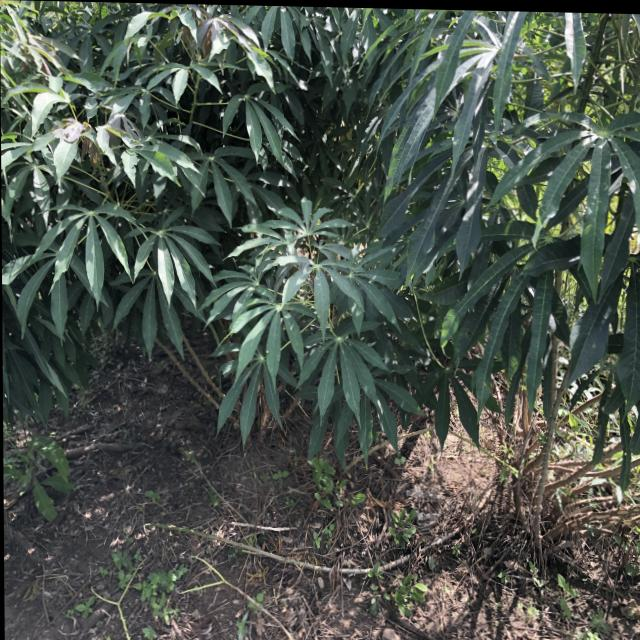Mosca: (585, 337, 599, 353), (260, 345, 278, 356), (408, 268, 418, 285), (466, 251, 479, 263), (398, 402, 408, 414), (326, 276, 335, 286)
